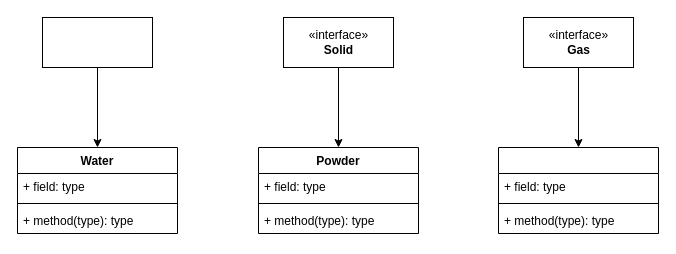
This 676x254 diagram has some shape labels left out. Each missing label, with the box of its shape:
Steam: (498, 146, 658, 234)
«interface» Liquid: (42, 16, 152, 68)
